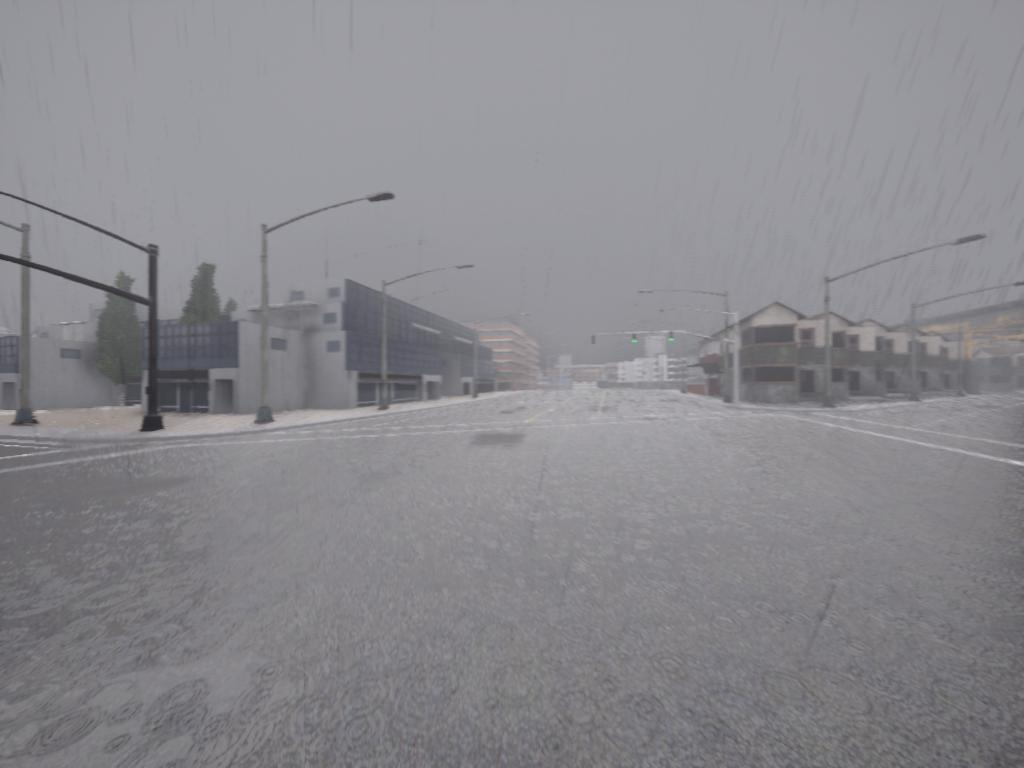traffic_light: (591, 334, 597, 347), (632, 333, 638, 345), (669, 332, 675, 344)
